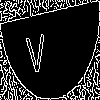V: (25, 25, 47, 75)
